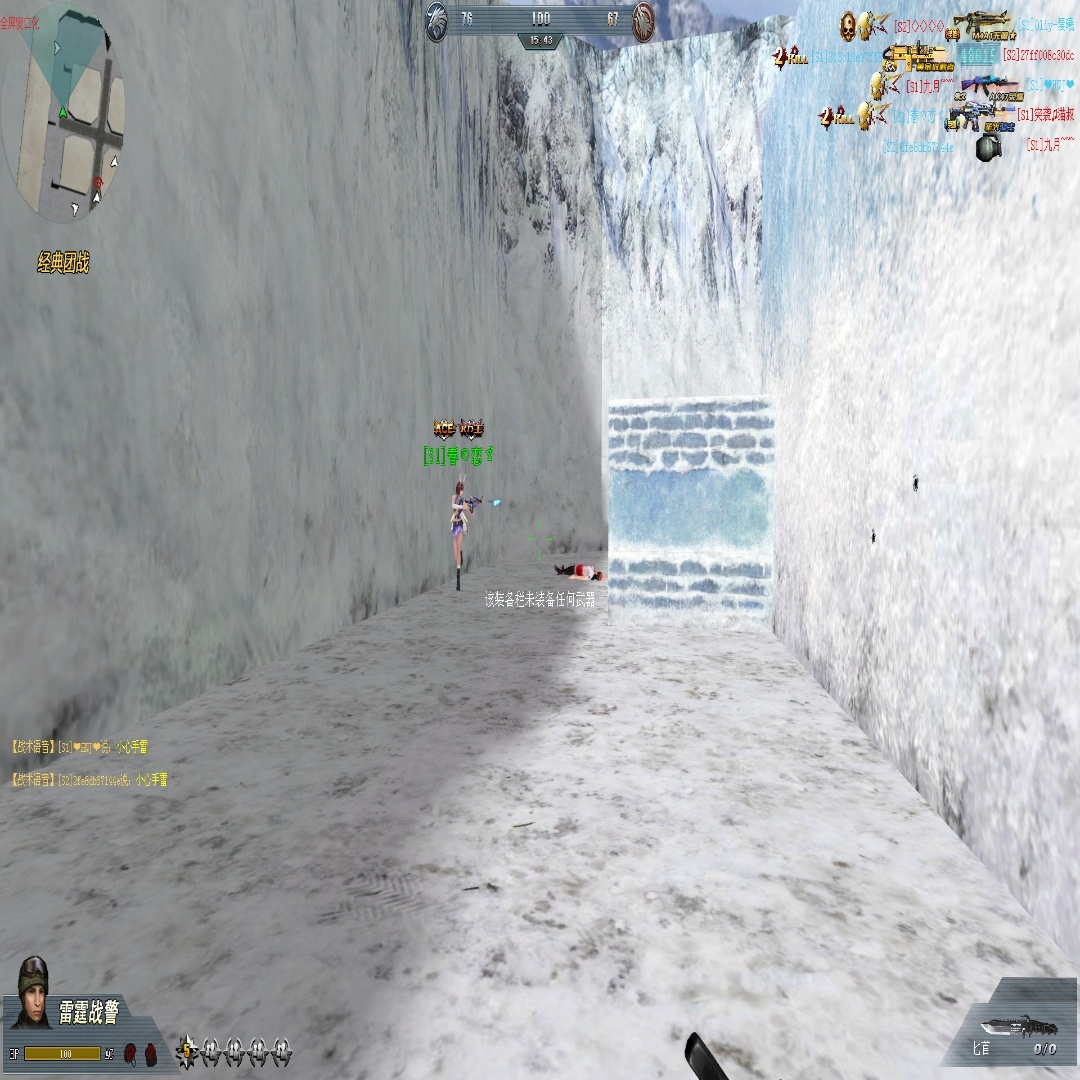t: (451, 475, 481, 590)
